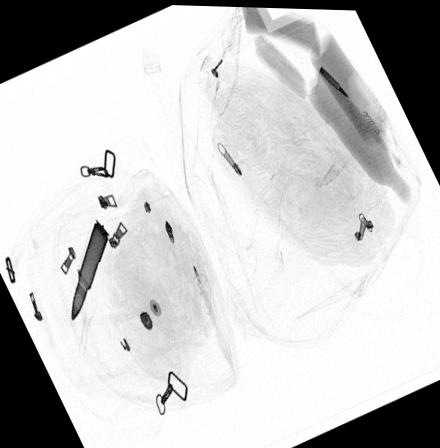Bullet: (69, 216, 109, 318), (317, 61, 352, 98)
